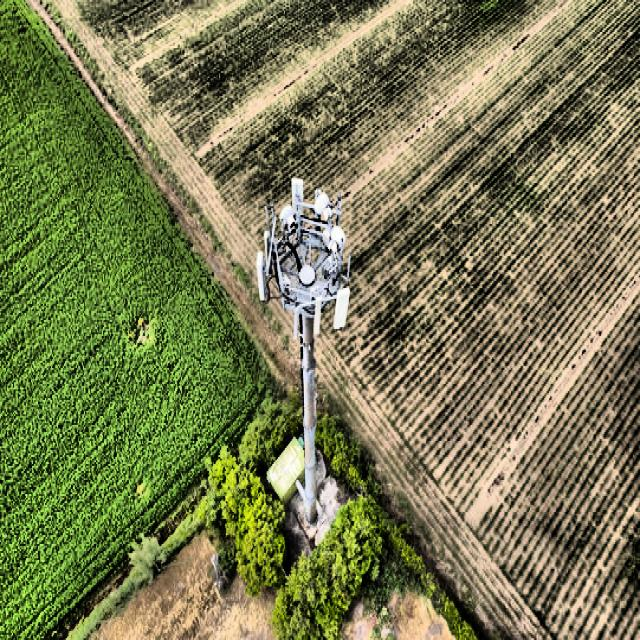antenna: (255, 178, 349, 521), (291, 177, 303, 237), (333, 287, 349, 329), (256, 251, 268, 301)
